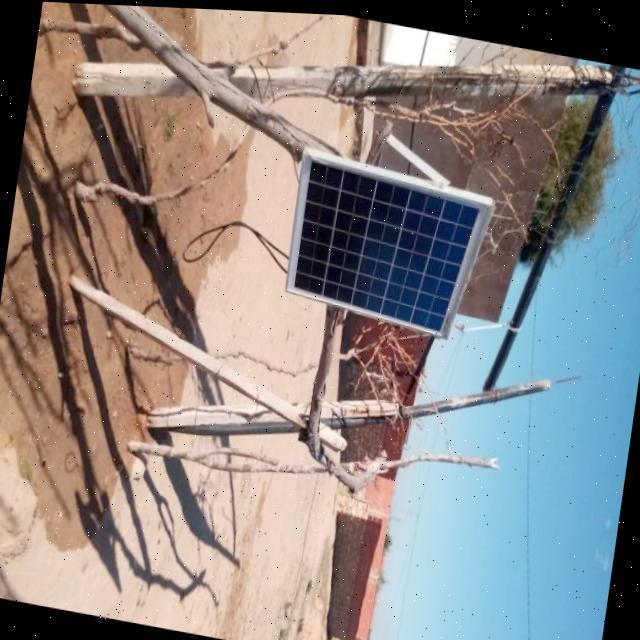Normal Solar Panel: (280, 148, 494, 340)
